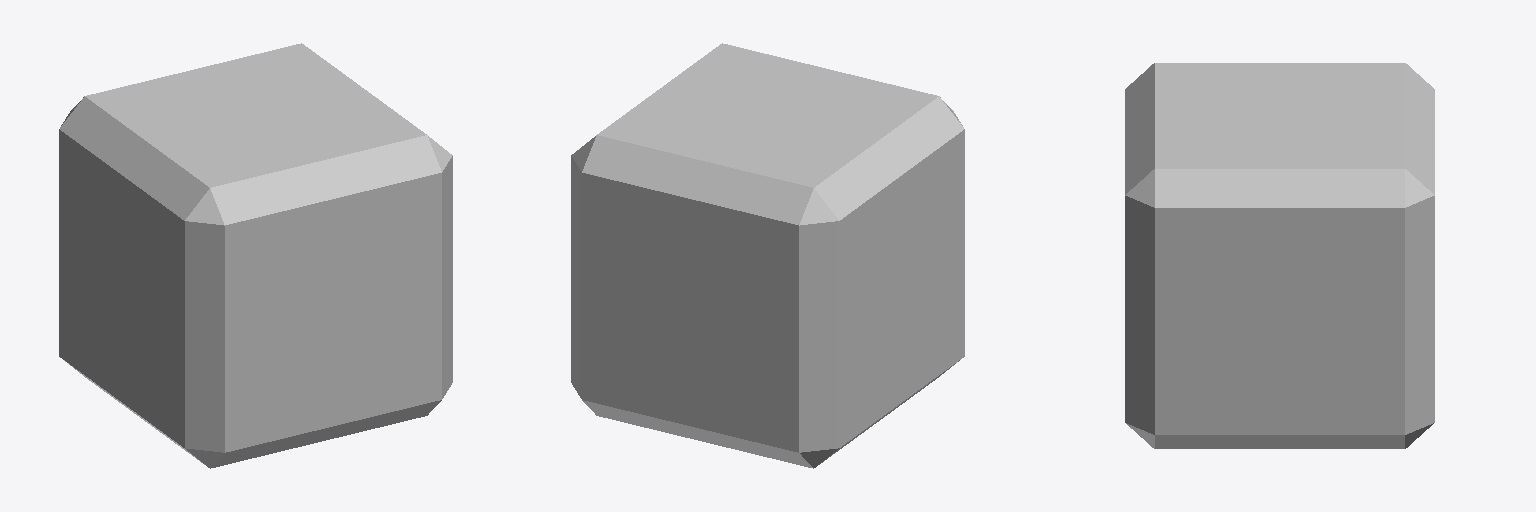
Rendered from beveled.obj.
3 views of the same model, side by side, from view 1: azimuth 30°, elevation 25°; view 2: azimuth 150°, elevation 25°; view 3: azimuth 270°, elevation 25° (orthographic).
Parts seen in each view (by area): view 1: Cube; view 2: Cube; view 3: Cube.
Part boxes in pixels (left/top/right/bottom): Cube: left=59, top=43, right=452, bottom=468; Cube: left=571, top=43, right=964, bottom=468; Cube: left=1125, top=63, right=1434, bottom=448.
Bounding box in the file's own units: 2 × 2 × 2.